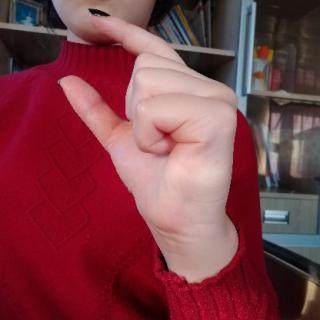DELL: (52, 3, 248, 250)
